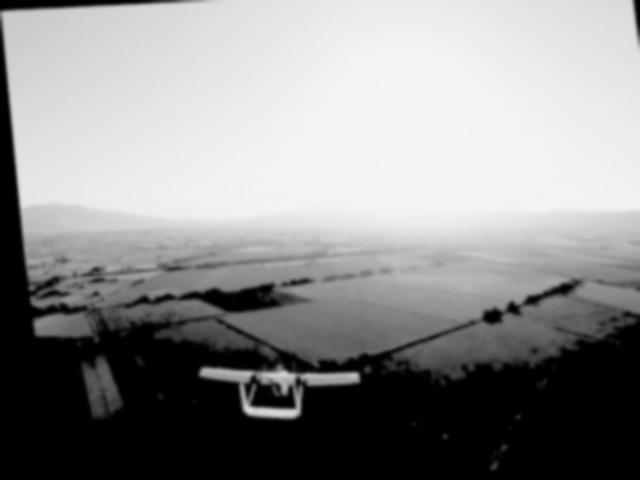hedef: (188, 349, 363, 430)
